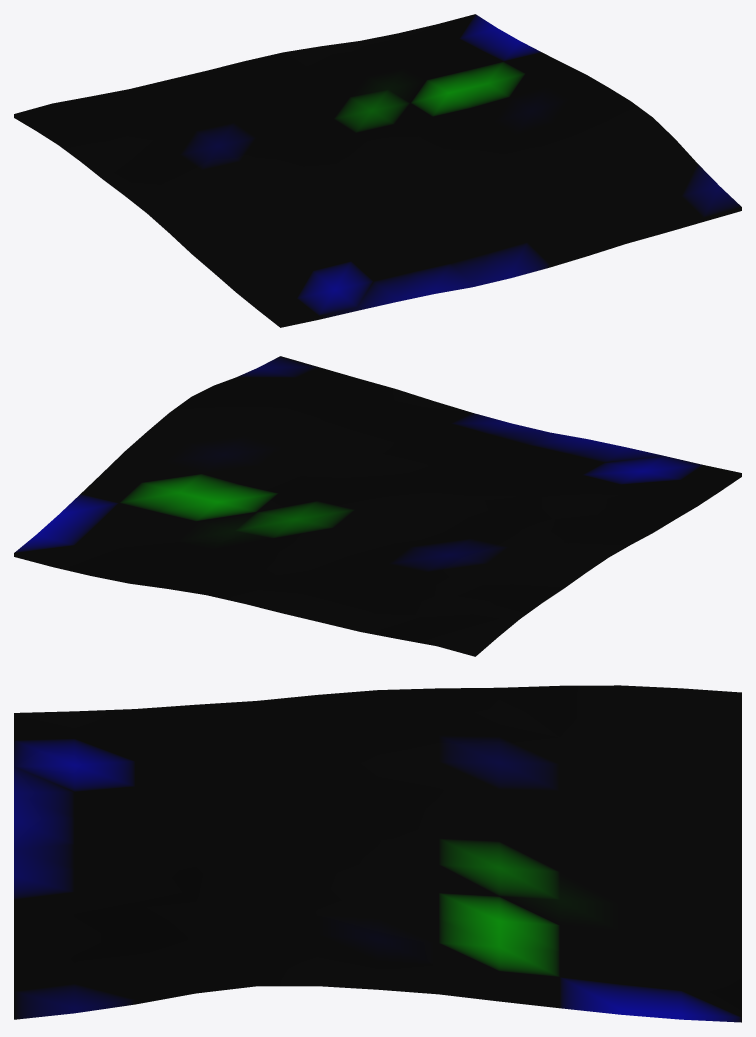
Rendered from coast_17_1.glb.
3 renders of one model, top to bottom at view 1: azimuth 30°, elevation 25°; view 2: azimuth 150°, elevation 25°; view 3: azimuth 270°, elevation 25°, orthographic. The views are drawn at different scales.
Parts seen in each view (by area): view 1: terrain; view 2: terrain; view 3: terrain.
Boxes of the visible parts, x1,y1,x2,y2 form: terrain: [14, 14, 741, 327]; terrain: [14, 356, 741, 656]; terrain: [14, 685, 741, 1022].
Size of the model in its own units: 192 by 15.63 by 192.
